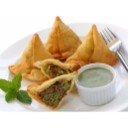samosa: (11, 35, 50, 79), (75, 25, 117, 65), (44, 17, 82, 58)
